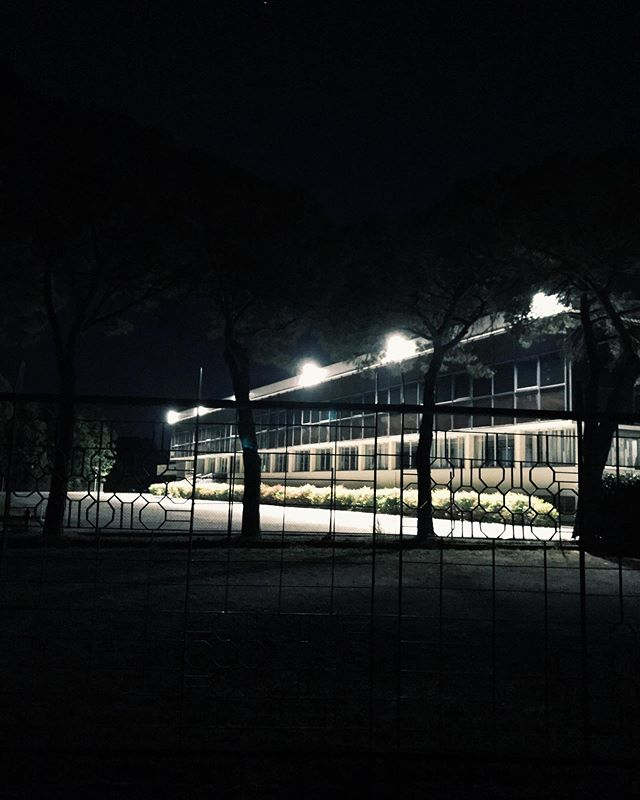building: (171, 275, 640, 493)
tree: (329, 164, 545, 564), (1, 119, 189, 524), (182, 161, 324, 557), (498, 143, 640, 539)
